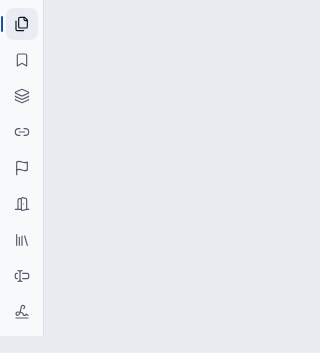
Test: Espacio de trabajo (ADR-0017) › Panel izquierdo: capas › pulsar la pestaña activa pliega el panel
Click the button with test id "left-tab-layers" at point(22, 96), box [6,80,38,112]
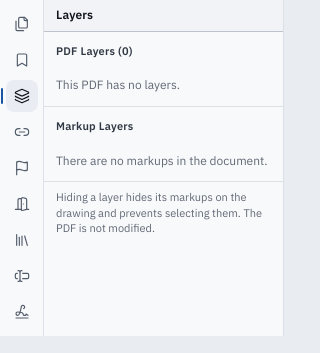
Expected: the element with test id "layers-panel" is shown
Click the button with test id "left-tab-layers" at point(22, 96), box [6,80,38,112]
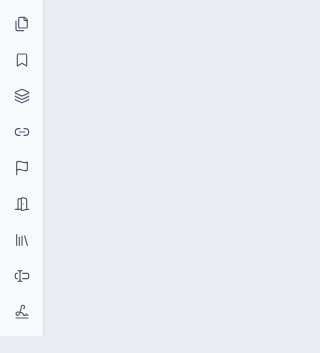
Expected: the element with test id "layers-panel" is gone
